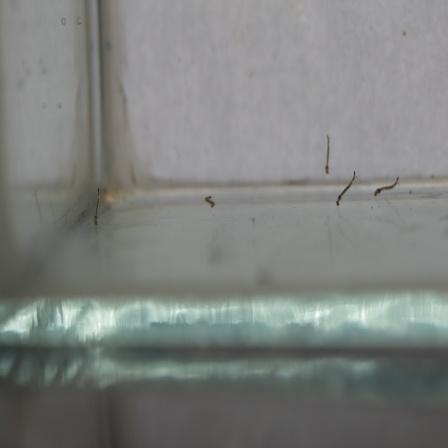Jentik-Nyamuk: (335, 165, 359, 209), (88, 183, 106, 230), (372, 172, 402, 199), (322, 129, 334, 179), (201, 190, 219, 211)
